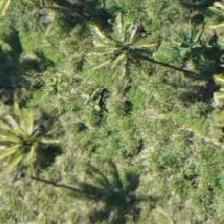coconut_tree: (70, 0, 160, 90), (0, 97, 76, 187)
